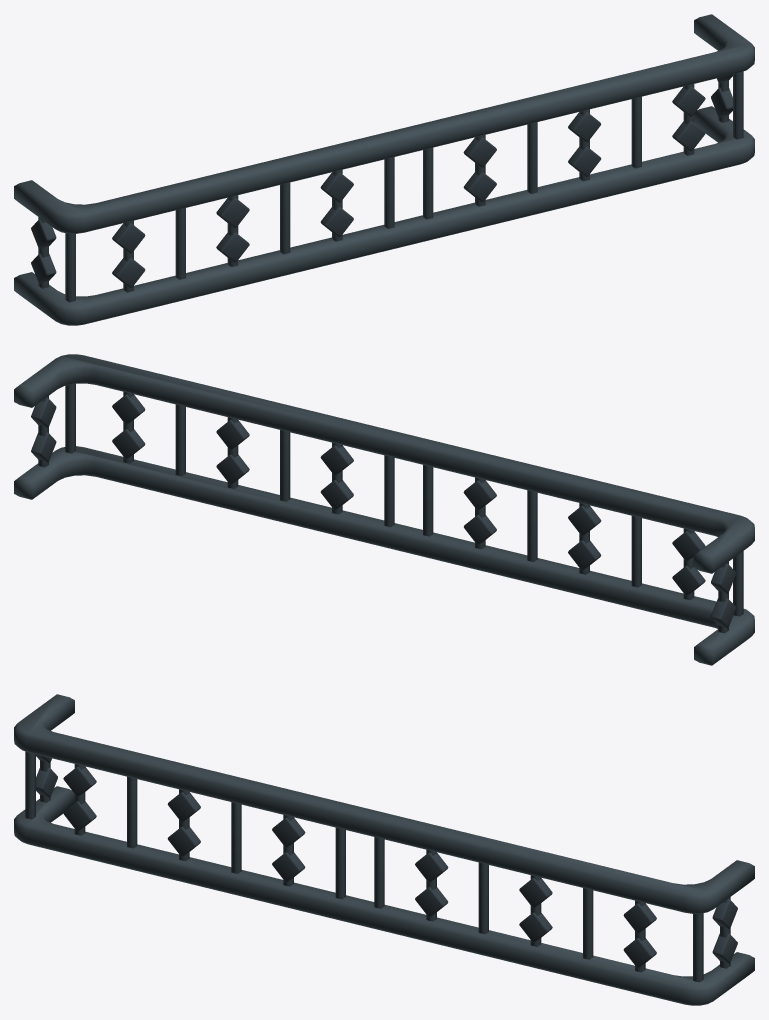
File: mct_homepart_railing.fbx
3 renders of one model, top to bottom at view 1: azimuth 30°, elevation 25°; view 2: azimuth 150°, elevation 25°; view 3: azimuth 330°, elevation 25°, orthographic.
Visible parts, largest first — view 1: mct_railing; view 2: mct_railing; view 3: mct_railing.
Boxes of the visible parts, <box> form: mct_railing: <box>14,14,754,325</box>; mct_railing: <box>14,354,754,665</box>; mct_railing: <box>14,694,754,1005</box>.
Size of the model in its own units: 360 by 55.03 by 45.12.
